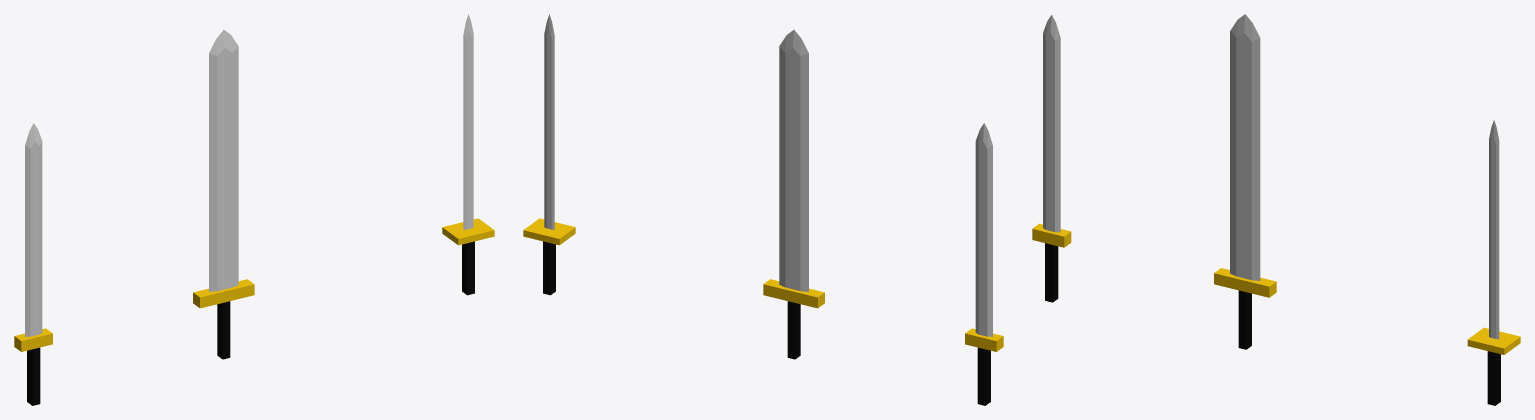
The model's file is Sword.FBX.
3 views of the same model, side by side, from view 1: azimuth 30°, elevation 25°; view 2: azimuth 150°, elevation 25°; view 3: azimuth 330°, elevation 25° (orthographic).
Visible parts, largest first — view 1: Sword-Heavy, Sword, Sword-Slim; view 2: Sword-Heavy, Sword, Sword-Slim; view 3: Sword-Heavy, Sword, Sword-Slim.
Boxes of the visible parts, bbox=[...] form: Sword-Heavy: bbox=[193, 30, 254, 359]; Sword: bbox=[14, 123, 52, 405]; Sword-Slim: bbox=[442, 14, 494, 295]; Sword-Heavy: bbox=[763, 30, 824, 359]; Sword: bbox=[965, 123, 1003, 405]; Sword-Slim: bbox=[523, 14, 575, 295]; Sword-Heavy: bbox=[1214, 14, 1276, 349]; Sword: bbox=[1032, 15, 1071, 302]; Sword-Slim: bbox=[1467, 120, 1520, 405].
Size of the model in its own units: 103 by 68.92 by 6.17.
